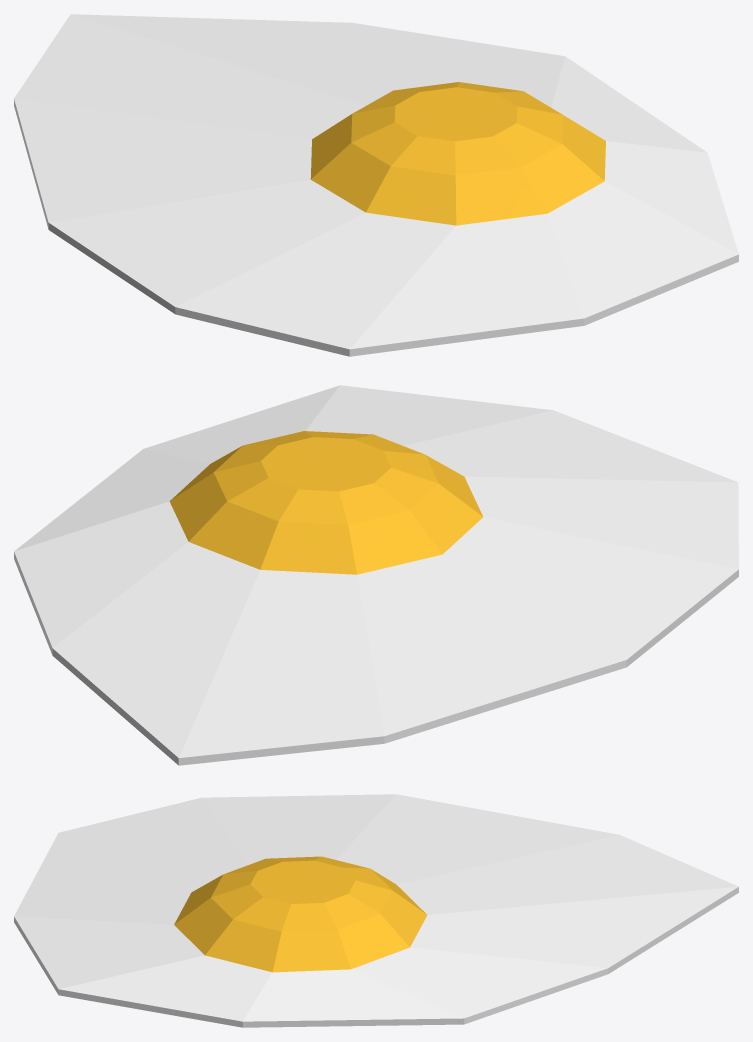
The model's file is Egg.fbx.
3 views of the same model, one above another, from view 1: azimuth 30°, elevation 25°; view 2: azimuth 150°, elevation 25°; view 3: azimuth 270°, elevation 25° (orthographic). The views are drawn at different scales.
Parts seen in each view (by area): view 1: Egg; view 2: Egg; view 3: Egg.
Part boxes in pixels (x1,y1,x2,y2): Egg: (14, 14, 738, 356); Egg: (14, 385, 738, 765); Egg: (14, 794, 738, 1027).
Size of the model in its own units: 0.2724 by 0.0329 by 0.367.
